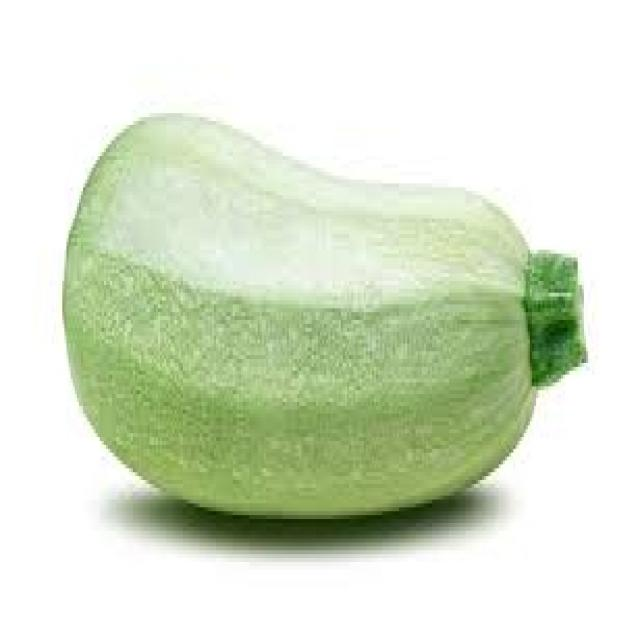organic waste: (60, 109, 586, 515)
